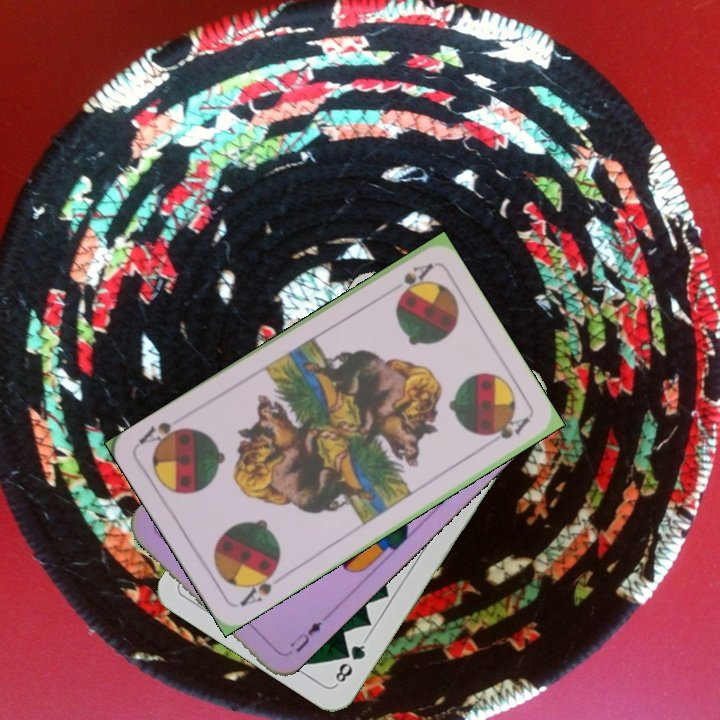EU: (286, 617, 325, 655)
G8: (331, 635, 369, 688)
SA: (235, 563, 287, 610), (394, 259, 436, 299)
